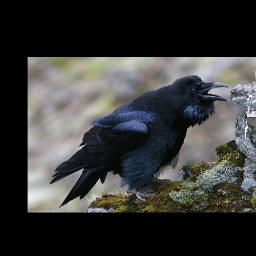Crow: (50, 74, 230, 209)
